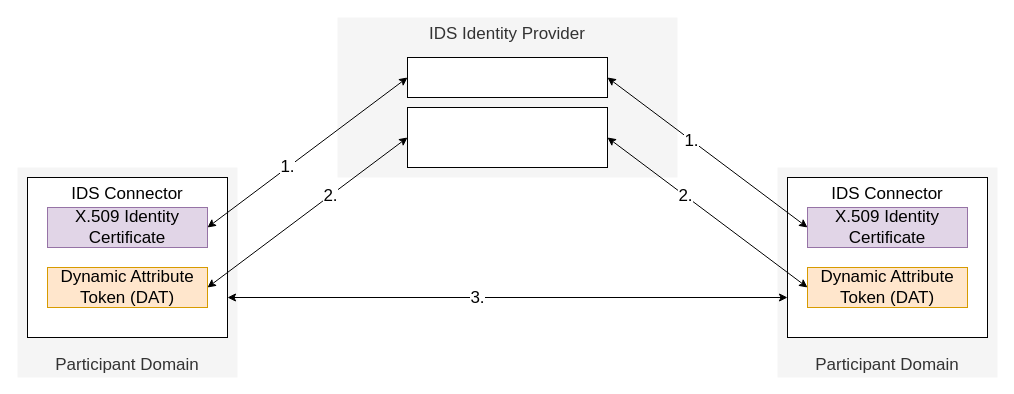
Some shapes in this 1014 by 394 pixel diagram are drawn without their labels. The centre of each missing label's shape, as x and y in pixels:
"Device CA" goes at (507,77).
"Dynamic Attribute Provisioning Service (DAPS)" goes at (507,137).
